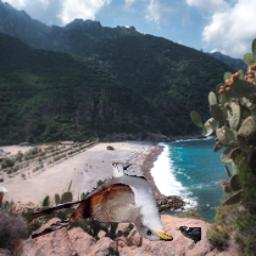Crow: (177, 226, 202, 251)
Cuckoo: (32, 160, 173, 241)
